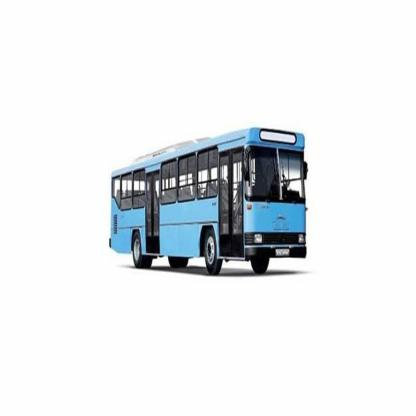Bus: (103, 126, 312, 290)
